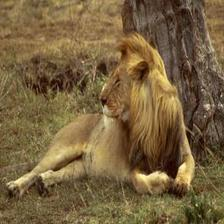Lion: (6, 33, 199, 201)
